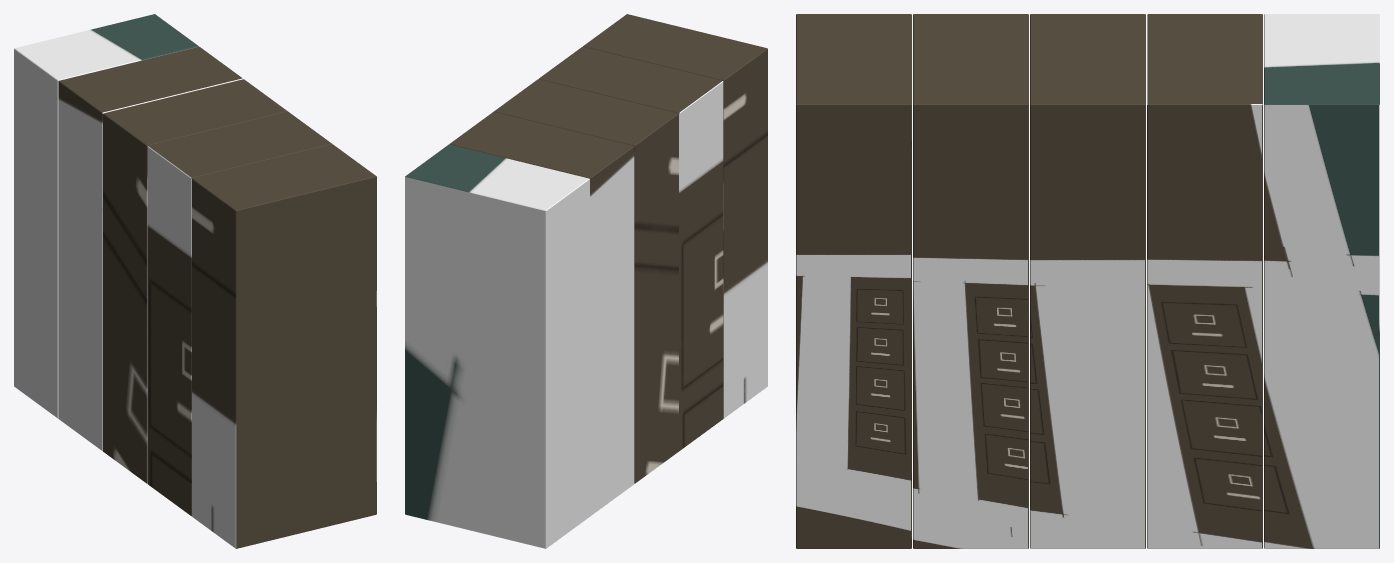
File: Filing Cabinet.fbx
3 renders of one model, left to right at view 1: azimuth 30°, elevation 25°; view 2: azimuth 150°, elevation 25°; view 3: azimuth 270°, elevation 25°, orthographic. The views are drawn at different scales.
Visible parts, largest first — view 1: Filing Cabinets; view 2: Filing Cabinets; view 3: Filing Cabinets.
Boxes of the visible parts, left/top/right/bottom form: Filing Cabinets: left=14, top=14, right=376, bottom=548; Filing Cabinets: left=405, top=14, right=767, bottom=548; Filing Cabinets: left=796, top=14, right=1379, bottom=548.
Bounding box in the file's own units: 79.41 × 182 × 216.
